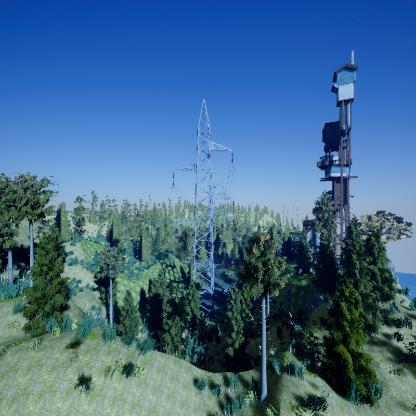tower: (165, 100, 237, 349)
